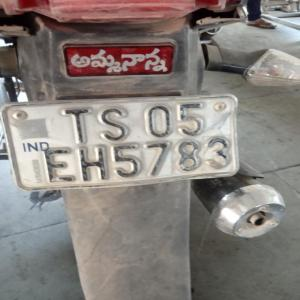Plate: (10, 95, 239, 187)
